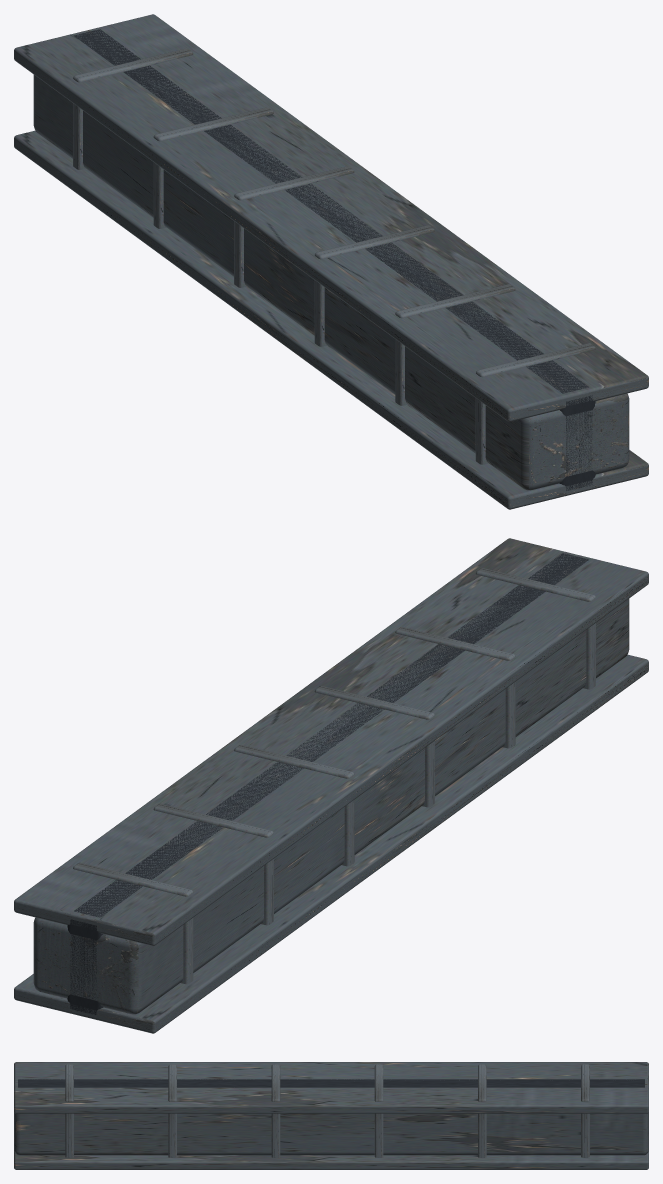
Rendered from beam.glb.
3 views of the same model, one above another, from view 1: azimuth 30°, elevation 25°; view 2: azimuth 150°, elevation 25°; view 3: azimuth 270°, elevation 25° (orthographic). The views are drawn at different scales.
Visible parts, largest first — view 1: BeamTopFlange, BeamCore, BeamBottomFlange, BeamFlange, BeamWebStiffener21, BeamWebStiffener47, BeamWebStiffener73, BeamWebStiffener60, BeamWebStiffener7, BeamWebStiffener34; view 2: BeamTopFlange, BeamCore, BeamBottomFlange, BeamFlange, BeamWebStiffener7, BeamWebStiffener60, BeamWebStiffener34, BeamWebStiffener21, BeamWebStiffener47, BeamWebStiffener73; view 3: BeamTopFlange, BeamCore, BeamBottomFlange, BeamFlange, BeamWebStiffener34, BeamWebStiffener47, BeamWebStiffener7, BeamWebStiffener21, BeamWebStiffener73, BeamWebStiffener60.
Boxes of the visible parts, bbox=[...] form: BeamTopFlange: bbox=[14, 14, 648, 421]; BeamCore: bbox=[33, 74, 629, 490]; BeamBottomFlange: bbox=[14, 130, 648, 509]; BeamFlange: bbox=[73, 29, 595, 490]; BeamWebStiffener21: bbox=[153, 107, 273, 228]; BeamWebStiffener47: bbox=[314, 225, 434, 346]; BeamWebStiffener73: bbox=[475, 343, 595, 464]; BeamWebStiffener60: bbox=[395, 284, 515, 405]; BeamWebStiffener7: bbox=[73, 48, 193, 169]; BeamWebStiffener34: bbox=[234, 166, 354, 287]; BeamTopFlange: bbox=[14, 538, 648, 945]; BeamCore: bbox=[33, 598, 629, 1014]; BeamBottomFlange: bbox=[14, 654, 648, 1033]; BeamFlange: bbox=[67, 553, 588, 1014]; BeamWebStiffener7: bbox=[73, 862, 193, 984]; BeamWebStiffener60: bbox=[395, 627, 515, 748]; BeamWebStiffener34: bbox=[234, 745, 354, 866]; BeamWebStiffener21: bbox=[153, 803, 273, 925]; BeamWebStiffener47: bbox=[314, 686, 434, 807]; BeamWebStiffener73: bbox=[475, 568, 595, 689]; BeamTopFlange: bbox=[14, 1062, 648, 1113]; BeamCore: bbox=[14, 1112, 648, 1155]; BeamBottomFlange: bbox=[14, 1150, 648, 1169]; BeamFlange: bbox=[18, 1079, 644, 1087]; BeamWebStiffener34: bbox=[374, 1064, 383, 1157]; BeamWebStiffener47: bbox=[271, 1064, 280, 1157]; BeamWebStiffener7: bbox=[581, 1064, 589, 1157]; BeamWebStiffener21: bbox=[478, 1064, 486, 1157]; BeamWebStiffener73: bbox=[65, 1064, 73, 1157]; BeamWebStiffener60: bbox=[168, 1064, 176, 1157].
Bounding box in the file's own units: 1.32 × 0.95 × 8.
Materials: 3 (3 with a texture image).
